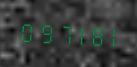eight: (86, 20, 102, 48)
nine: (34, 18, 50, 46)
one: (103, 21, 119, 49), (69, 20, 85, 47)
seven: (52, 19, 68, 46)
zero: (17, 17, 33, 45)
